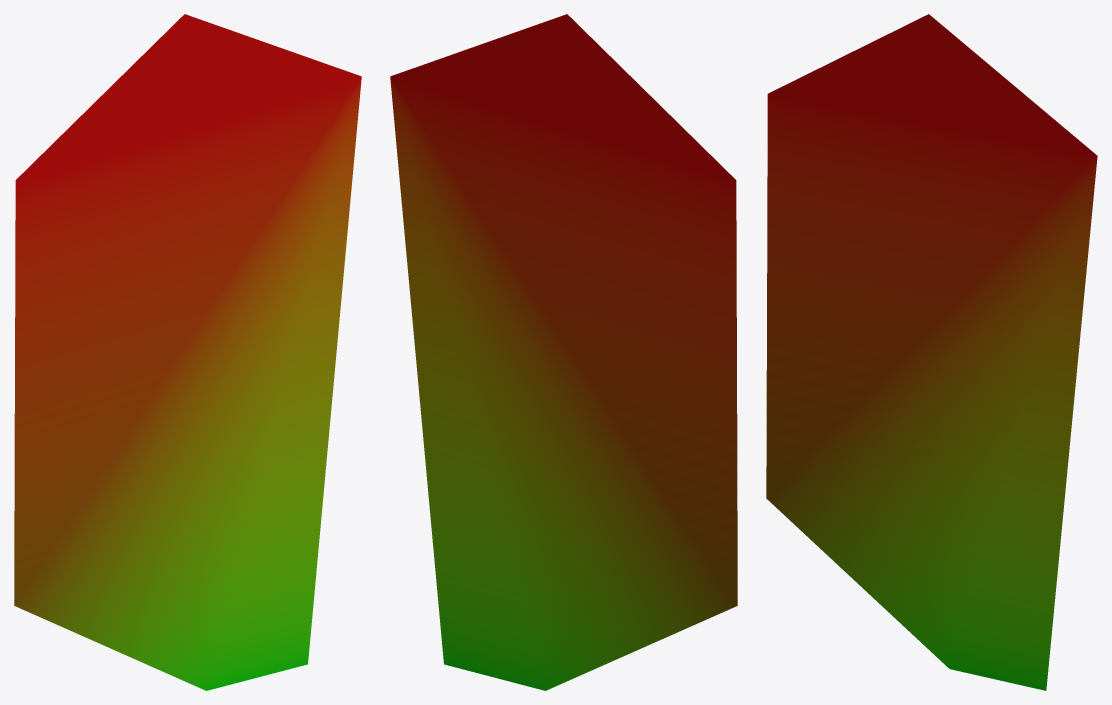
Rendered from Var4_LOD3.fbx.
3 renders of one model, left to right at view 1: azimuth 30°, elevation 25°; view 2: azimuth 150°, elevation 25°; view 3: azimuth 330°, elevation 25°, orthographic. The views are drawn at different scales.
Parts seen in each view (by area): view 1: _ede2_Var4_LOD3; view 2: _ede2_Var4_LOD3; view 3: _ede2_Var4_LOD3.
Part boxes in pixels (x1,y1,x2,y2): _ede2_Var4_LOD3: (14,14,361,690); _ede2_Var4_LOD3: (390,14,737,690); _ede2_Var4_LOD3: (766,14,1097,690).
Size of the model in its own units: 30.13 by 56.5 by 6.44e-06.
